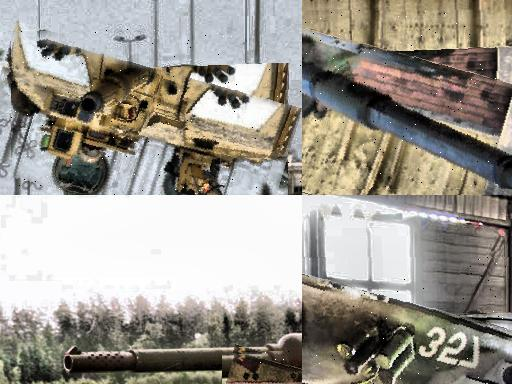tanks: (12, 31, 303, 196), (303, 26, 512, 189), (303, 271, 512, 384), (68, 335, 303, 373), (228, 352, 303, 384)
